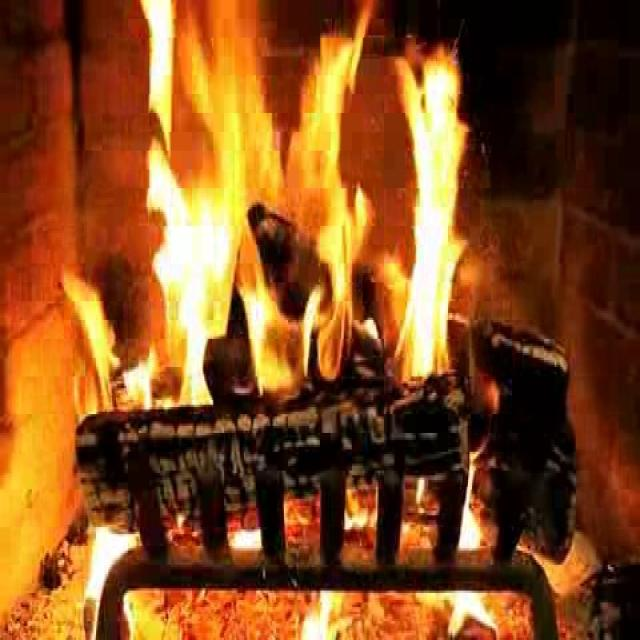fire: (110, 9, 464, 412)
